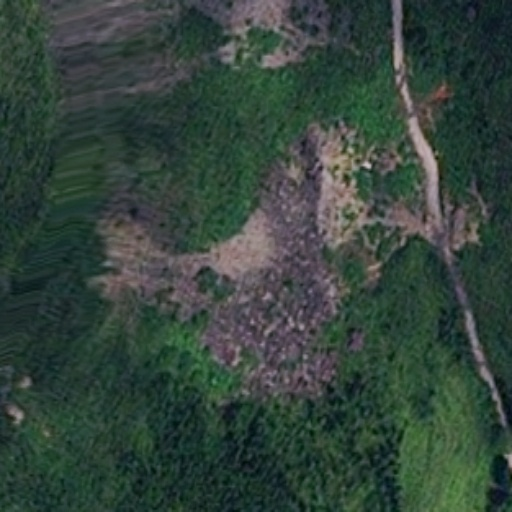landslide: (89, 121, 415, 396)
